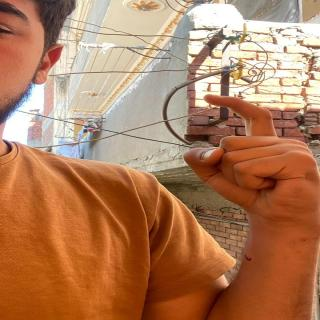RAA: (173, 92, 320, 230)
